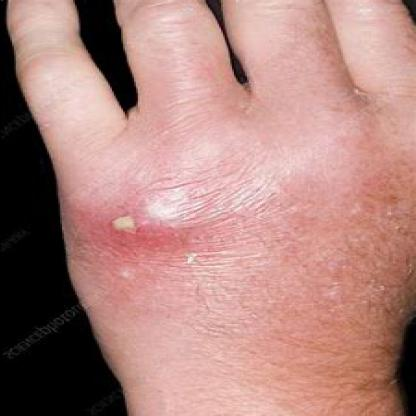Wasp: (76, 162, 236, 276)
